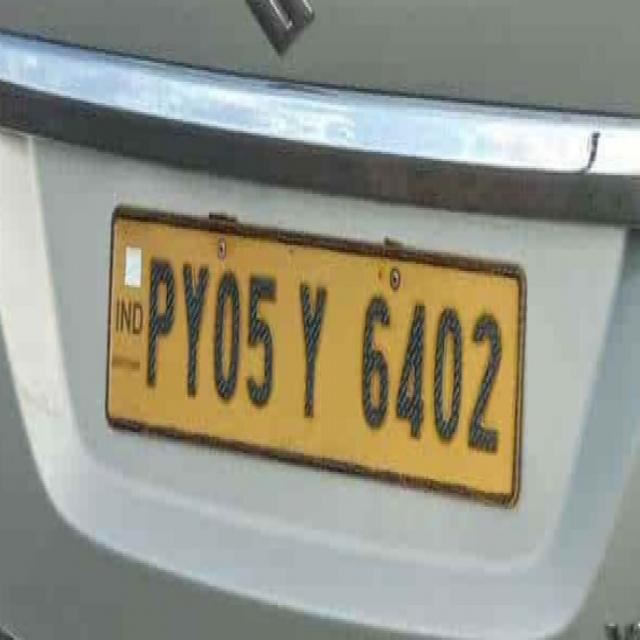0: (431, 288, 466, 457), (212, 259, 242, 408)
4: (395, 276, 429, 442)
5: (245, 262, 280, 419)
6: (355, 276, 392, 444)
P: (143, 244, 176, 398)
Y: (294, 264, 334, 434), (180, 247, 208, 403)
